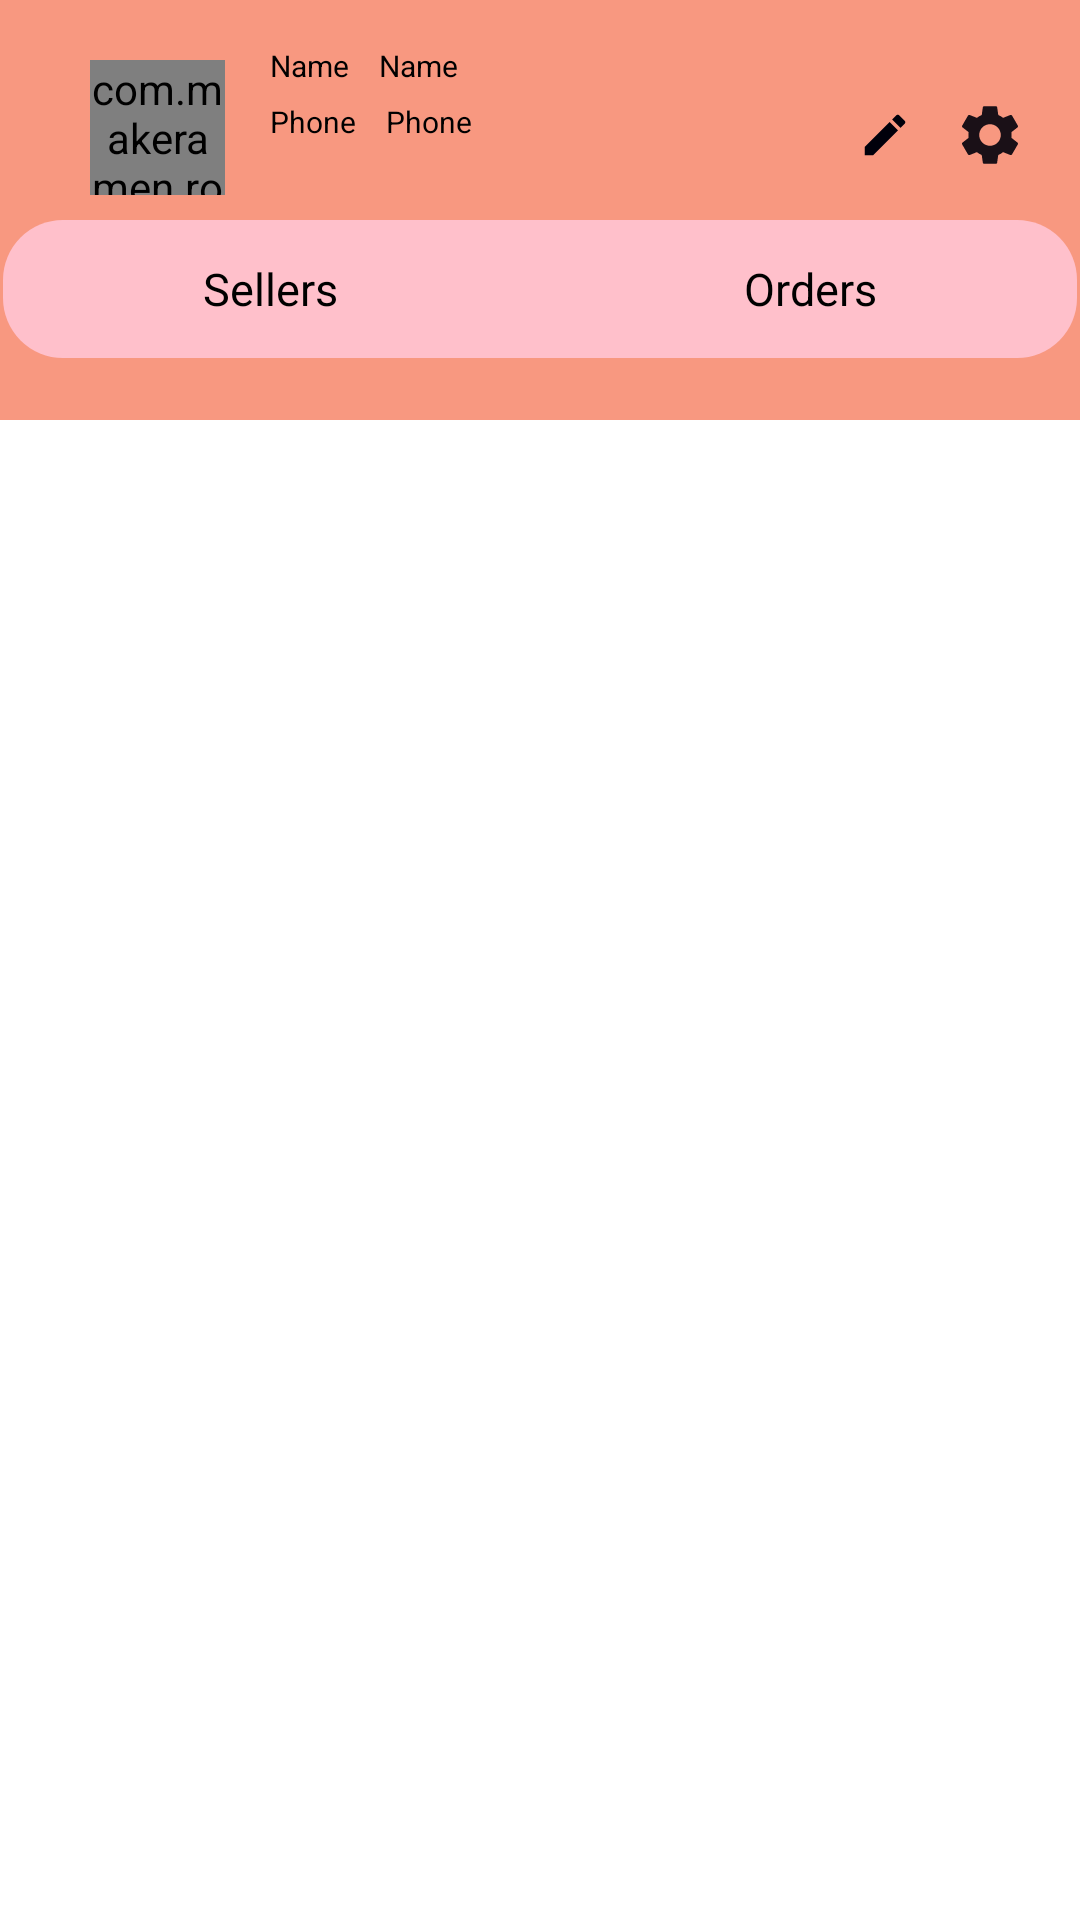

Icons on this 1080×1920 Android screen, each with its box as box(x1, y1, x2, y2):
editprofile: box(864, 114, 906, 156)
setings: box(962, 106, 1018, 164)
